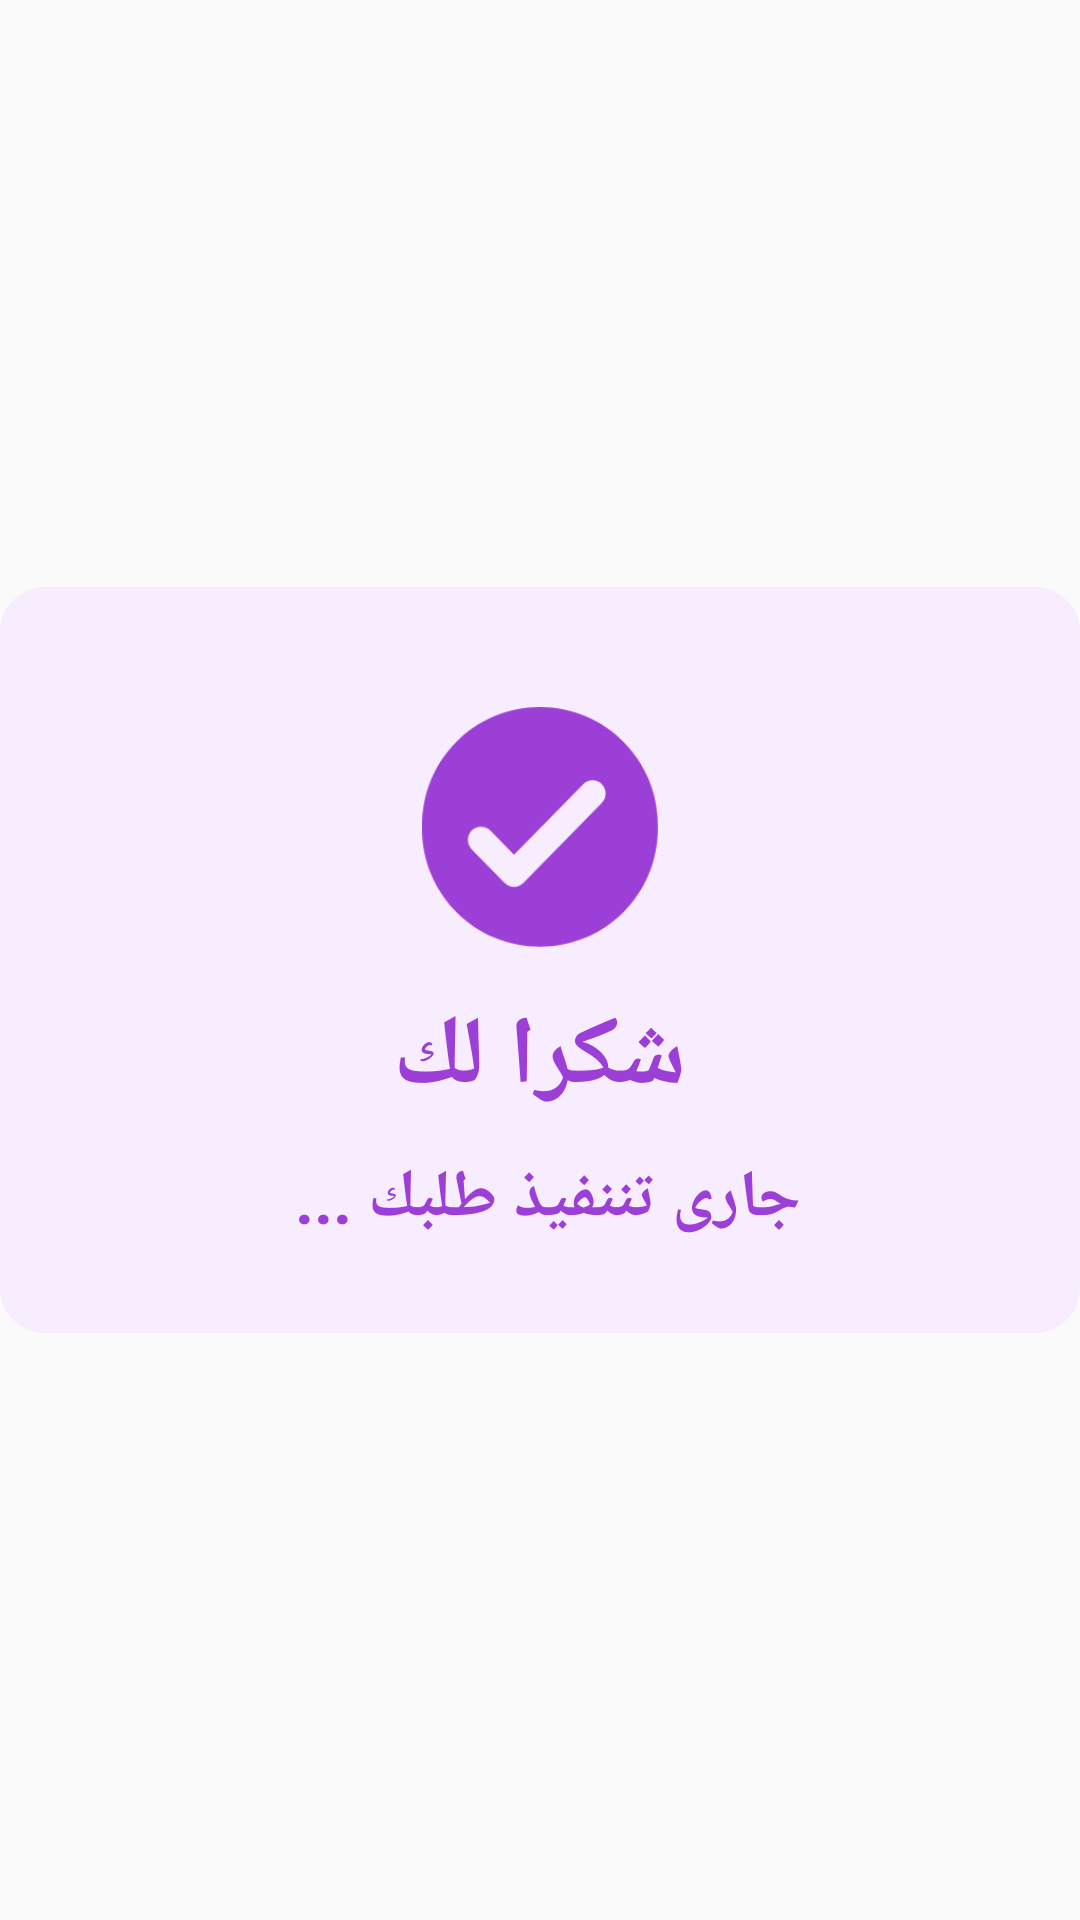

Locate icon controls on the screen. Image size 1080x1920, boxes as (x1, y1, x2, y2).
right: (422, 707, 658, 947)
